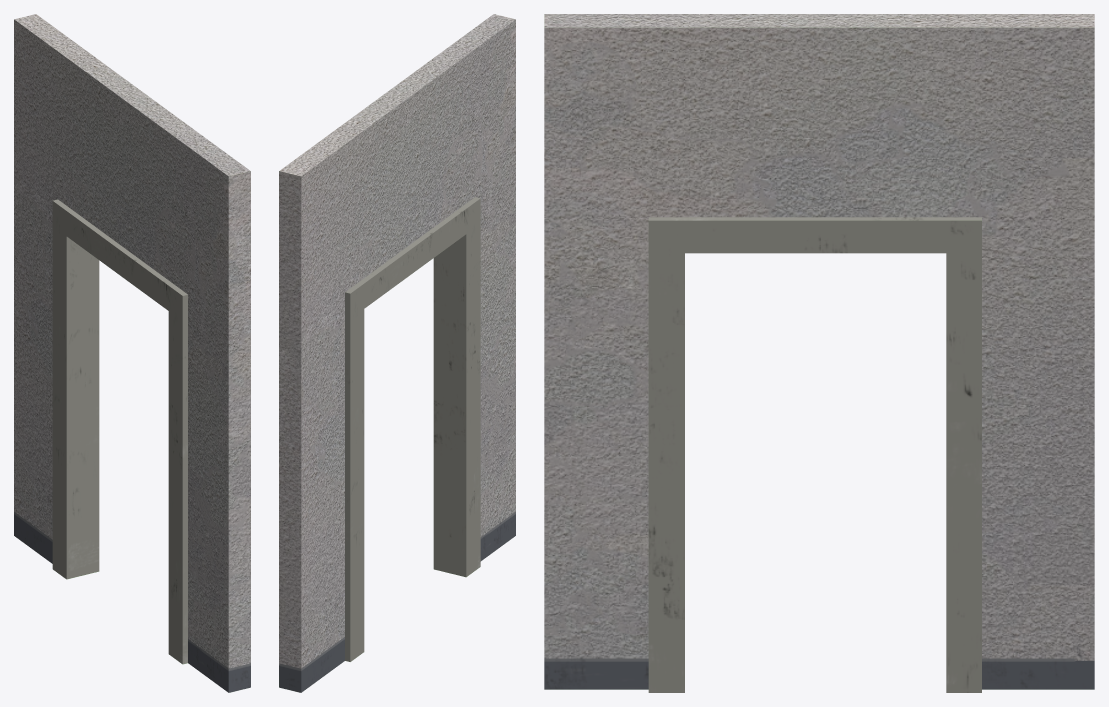
File: WallDoor_1_Type.fbx
3 renders of one model, left to right at view 1: azimuth 30°, elevation 25°; view 2: azimuth 150°, elevation 25°; view 3: azimuth 270°, elevation 25°, orthographic. The views are drawn at different scales.
Visible parts, largest first — view 1: WallDoor_1_Type, door_edge; view 2: WallDoor_1_Type, door_edge; view 3: WallDoor_1_Type, door_edge.
Part boxes in pixels (<box>): WallDoor_1_Type: <box>14,14,250,692</box>; door_edge: <box>52,199,187,664</box>; WallDoor_1_Type: <box>279,14,515,692</box>; door_edge: <box>345,197,480,661</box>; WallDoor_1_Type: <box>544,14,1094,689</box>; door_edge: <box>648,217,981,692</box>.
Size of the model in its own units: 0.2175 by 3.27 by 2.46.
